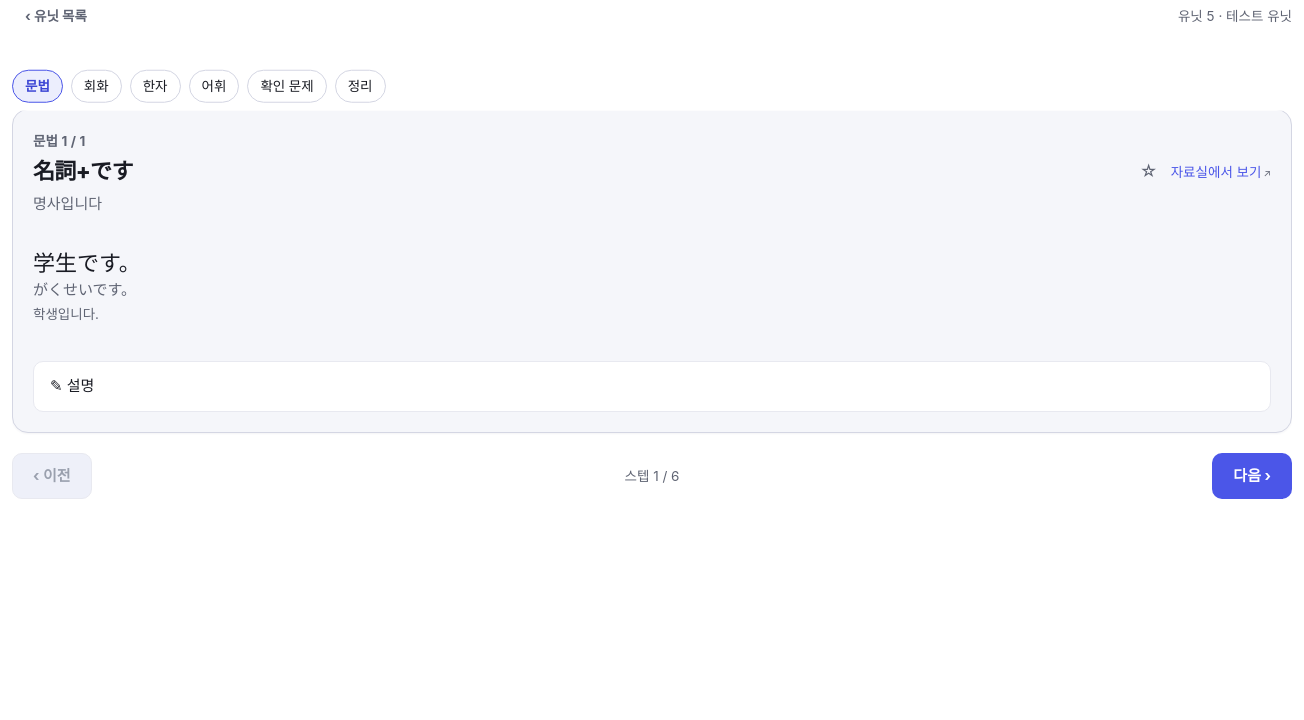
Test case: UnitStudyPage — 복습 블록 (설계/04 §2-3 review) › 복습 블록에는 자료실 링크를 넣지 않는다 (설계/05 §8 각주)
Click the button "정리" at (360, 86), box [335, 70, 386, 102]
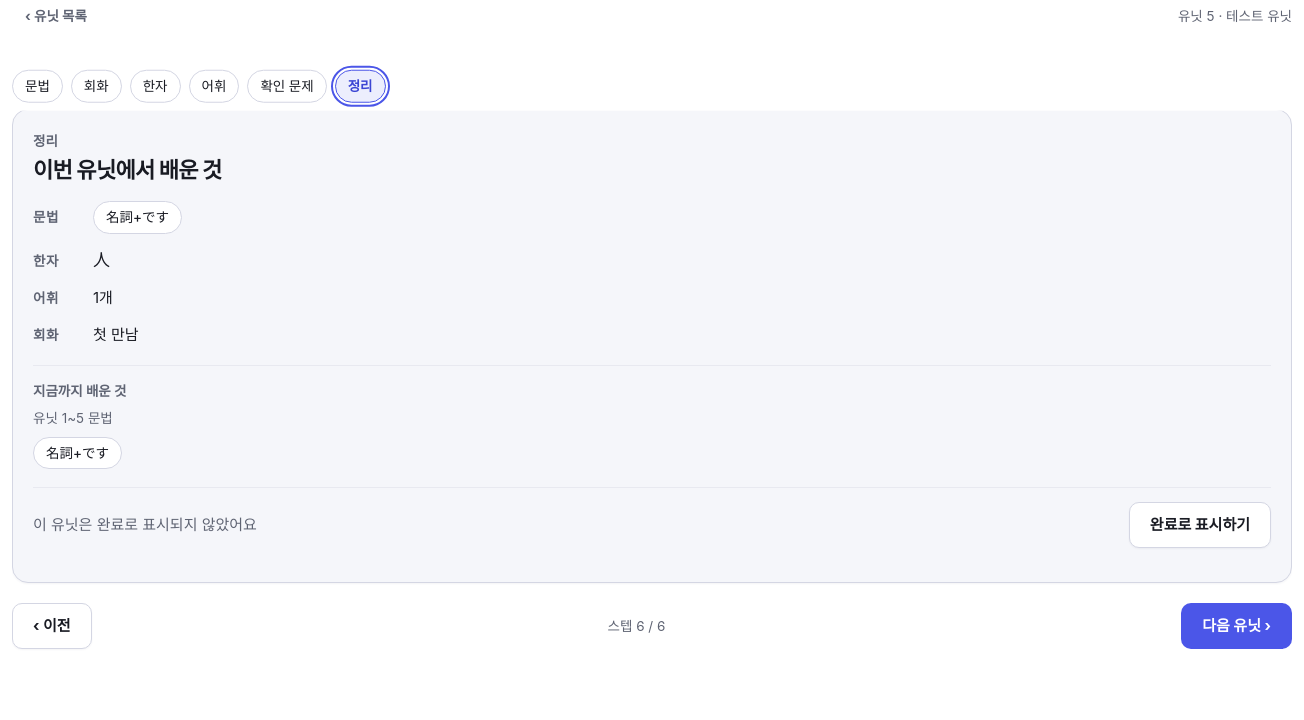
Expected: the link "자료실" is gone
